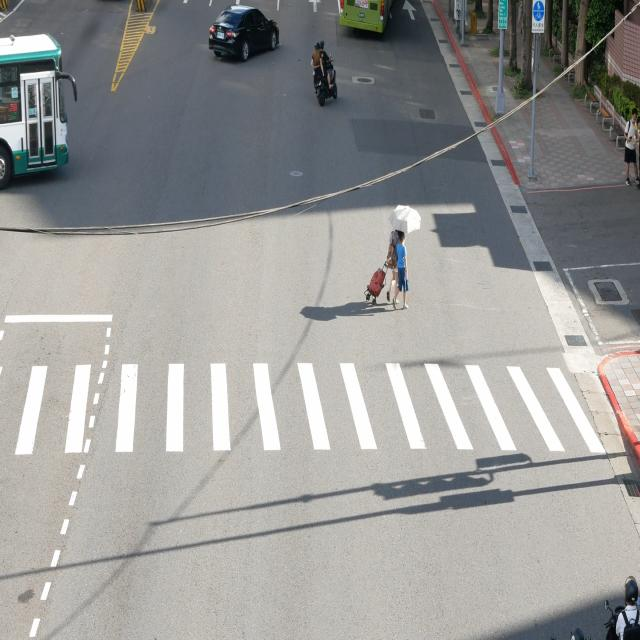pedestrian: (385, 205, 419, 308), (367, 269, 385, 300)
